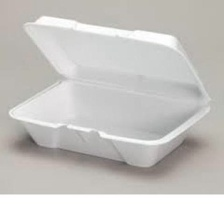foam_box: (3, 10, 215, 170)
